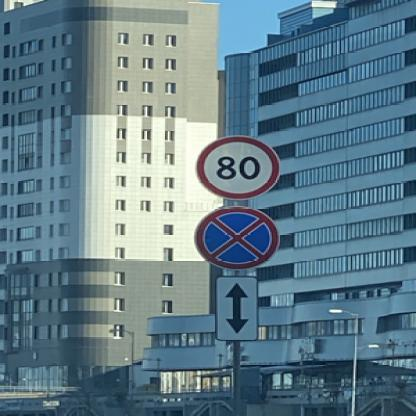speedlimit: (193, 136, 278, 198)
